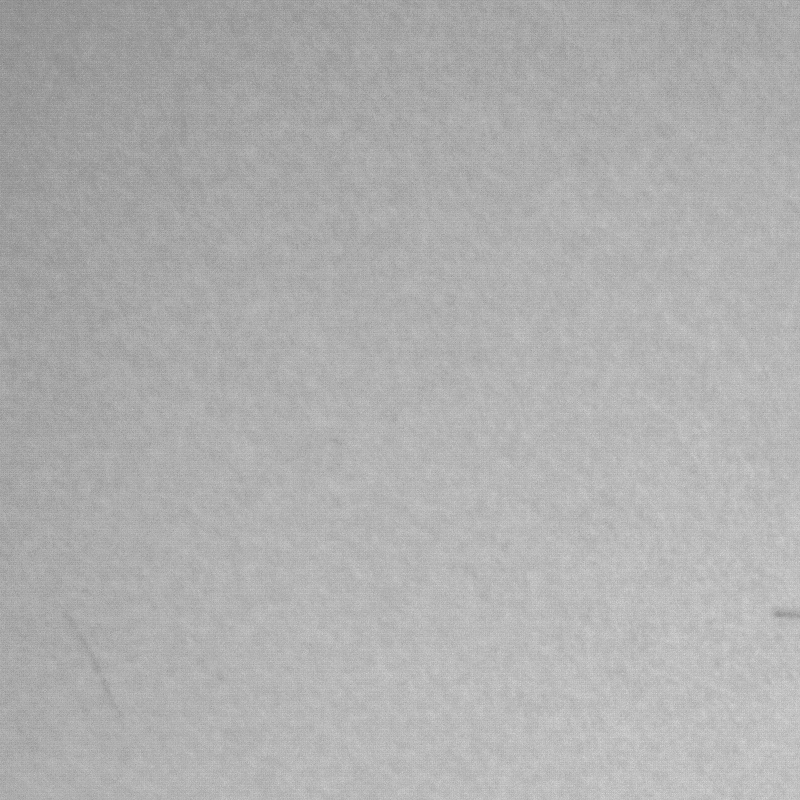defect: (55, 609, 128, 720), (770, 601, 800, 632)
